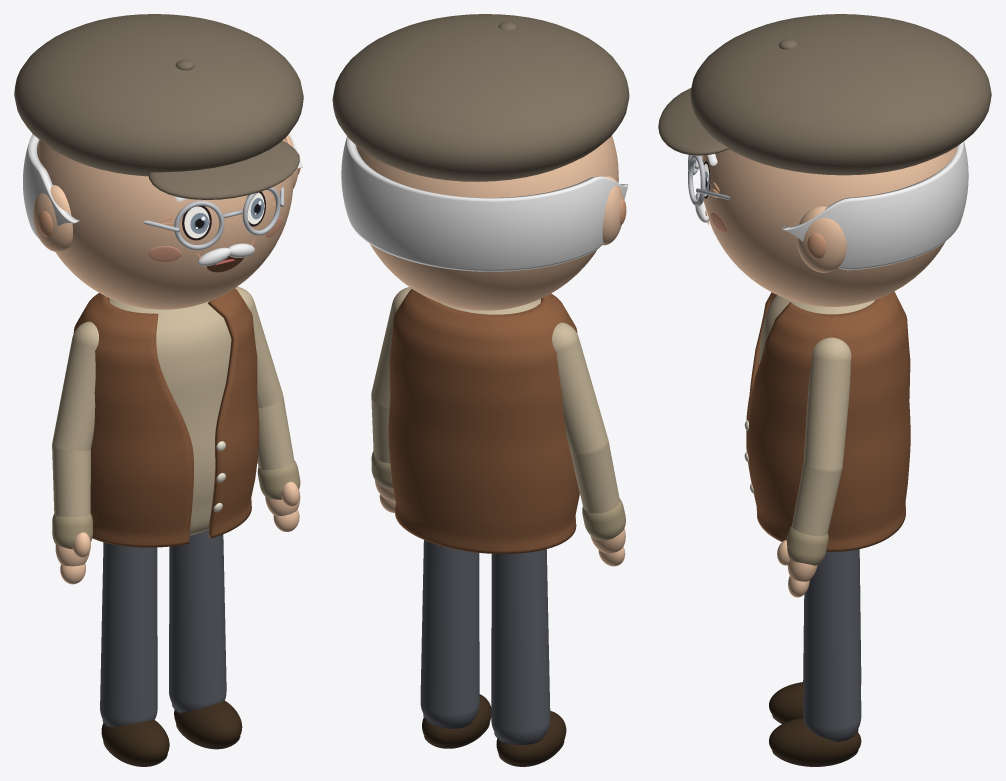
The model's file is oude_man_winkel.glb.
3 views of the same model, side by side, from view 1: azimuth 30°, elevation 25°; view 2: azimuth 150°, elevation 25°; view 3: azimuth 270°, elevation 25° (orthographic). The views are drawn at different scales.
Visible parts, largest first — view 1: oude_man_winkel_pet, oude_man_winkel_vest, oude_man_winkel_hoofd, oude_man_winkel_been_R, oude_man_winkel_romp, oude_man_winkel_been_L, oude_man_winkel_pet_klep, oude_man_winkel_bovenarm_R, oude_man_winkel_onderarm_R, oude_man_winkel_schoen_R, oude_man_winkel_schoen_L, oude_man_winkel_onderarm_L (+7 smaller); view 2: oude_man_winkel_vest, oude_man_winkel_pet, oude_man_winkel_haar, oude_man_winkel_hoofd, oude_man_winkel_been_R, oude_man_winkel_been_L, oude_man_winkel_bovenarm_R, oude_man_winkel_onderarm_R, oude_man_winkel_schoen_R, oude_man_winkel_schoen_L, oude_man_winkel_bovenarm_L, oude_man_winkel_manchet_R (+3 smaller); view 3: oude_man_winkel_pet, oude_man_winkel_vest, oude_man_winkel_hoofd, oude_man_winkel_been_L, oude_man_winkel_haar, oude_man_winkel_bovenarm_L, oude_man_winkel_schoen_L, oude_man_winkel_onderarm_L, oude_man_winkel_pet_klep, oude_man_winkel_oor_L, oude_man_winkel_manchet_L, oude_man_winkel_romp (+1 smaller).
Part boxes in pixels (bbox=[...]): oude_man_winkel_pet: bbox=[14, 14, 303, 176]; oude_man_winkel_vest: bbox=[73, 288, 259, 547]; oude_man_winkel_hoofd: bbox=[36, 137, 293, 309]; oude_man_winkel_been_R: bbox=[100, 542, 157, 726]; oude_man_winkel_romp: bbox=[109, 298, 231, 535]; oude_man_winkel_been_L: bbox=[169, 530, 226, 712]; oude_man_winkel_pet_klep: bbox=[148, 141, 299, 199]; oude_man_winkel_bovenarm_R: bbox=[52, 321, 98, 451]; oude_man_winkel_onderarm_R: bbox=[52, 445, 90, 517]; oude_man_winkel_schoen_R: bbox=[101, 720, 169, 764]; oude_man_winkel_schoen_L: bbox=[174, 701, 242, 746]; oude_man_winkel_onderarm_L: bbox=[257, 396, 294, 470]; oude_man_winkel_vest: bbox=[388, 289, 579, 553]; oude_man_winkel_pet: bbox=[332, 14, 629, 181]; oude_man_winkel_haar: bbox=[341, 136, 628, 271]; oude_man_winkel_hoofd: bbox=[356, 135, 618, 310]; oude_man_winkel_been_R: bbox=[491, 549, 550, 743]; oude_man_winkel_been_L: bbox=[420, 540, 479, 726]; oude_man_winkel_bovenarm_R: bbox=[552, 322, 607, 456]; oude_man_winkel_onderarm_R: bbox=[570, 442, 619, 513]; oude_man_winkel_schoen_R: bbox=[496, 711, 566, 764]; oude_man_winkel_schoen_L: bbox=[422, 694, 491, 746]; oude_man_winkel_bovenarm_L: bbox=[372, 287, 411, 407]; oude_man_winkel_manchet_R: bbox=[582, 498, 625, 540]; oude_man_winkel_pet: bbox=[690, 14, 991, 175]; oude_man_winkel_vest: bbox=[746, 291, 910, 551]; oude_man_winkel_hoofd: bbox=[702, 146, 957, 306]; oude_man_winkel_been_L: bbox=[803, 549, 861, 740]; oude_man_winkel_haar: bbox=[781, 141, 968, 270]; oude_man_winkel_bovenarm_L: bbox=[803, 337, 851, 473]; oude_man_winkel_schoen_L: bbox=[769, 717, 861, 762]; oude_man_winkel_onderarm_L: bbox=[792, 463, 842, 536]; oude_man_winkel_pet_klep: bbox=[658, 88, 728, 155]; oude_man_winkel_oor_L: bbox=[796, 206, 846, 272]; oude_man_winkel_manchet_L: bbox=[786, 525, 828, 565]; oude_man_winkel_romp: bbox=[759, 295, 874, 364].
Size of the model in its own units: 0.6749 by 1.74 by 0.7479.
